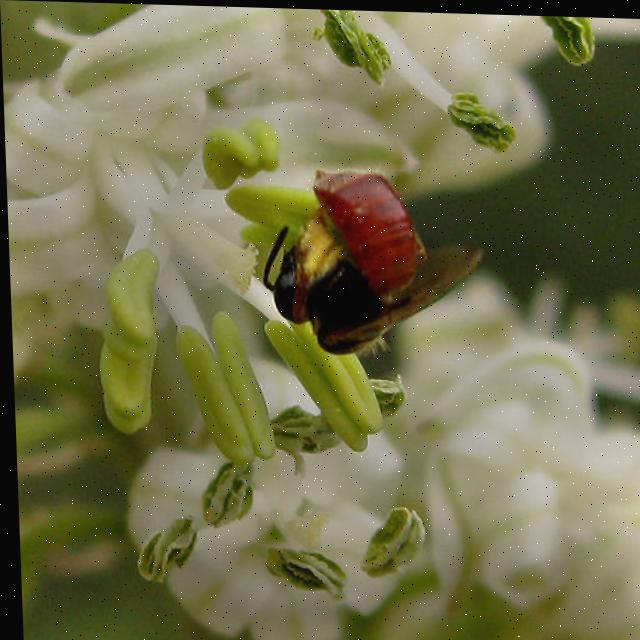Allodapula: (244, 143, 492, 365)
